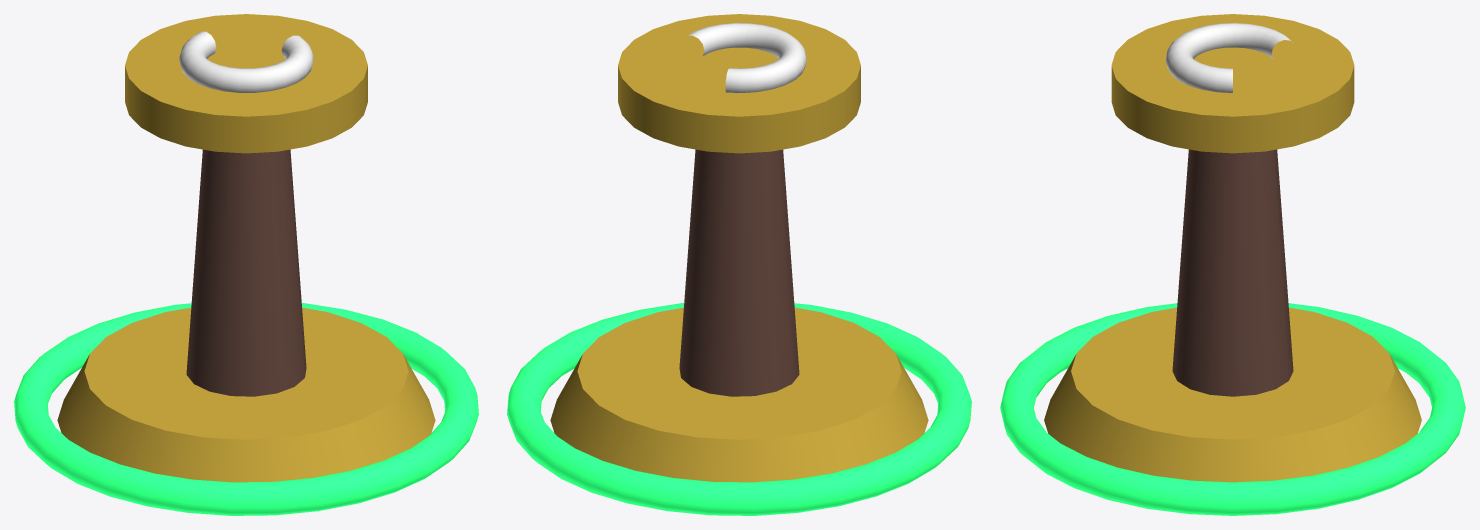
File: listener_marker.glb
The picture shows the model from 3 angles, left to right: view 1: azimuth 30°, elevation 25°; view 2: azimuth 150°, elevation 25°; view 3: azimuth 270°, elevation 25°; orthographic projection.
Visible parts, largest first — view 1: listener_marker; view 2: listener_marker; view 3: listener_marker.
Part boxes in pixels (x1,y1,x2,y2): listener_marker: (14,14,478,515); listener_marker: (507,14,971,515); listener_marker: (1000,14,1465,515).
Size of the model in its own units: 0.69 by 0.615 by 0.69.
